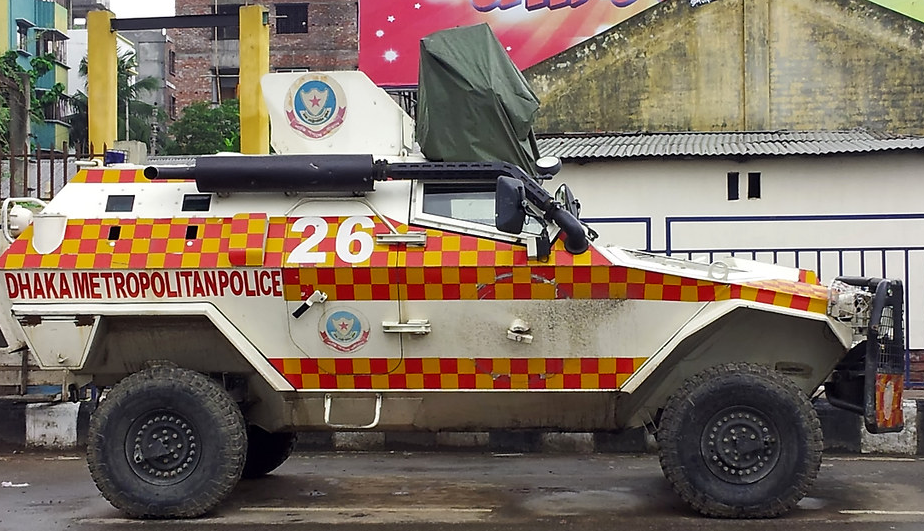Police cars: (3, 88, 914, 517)
